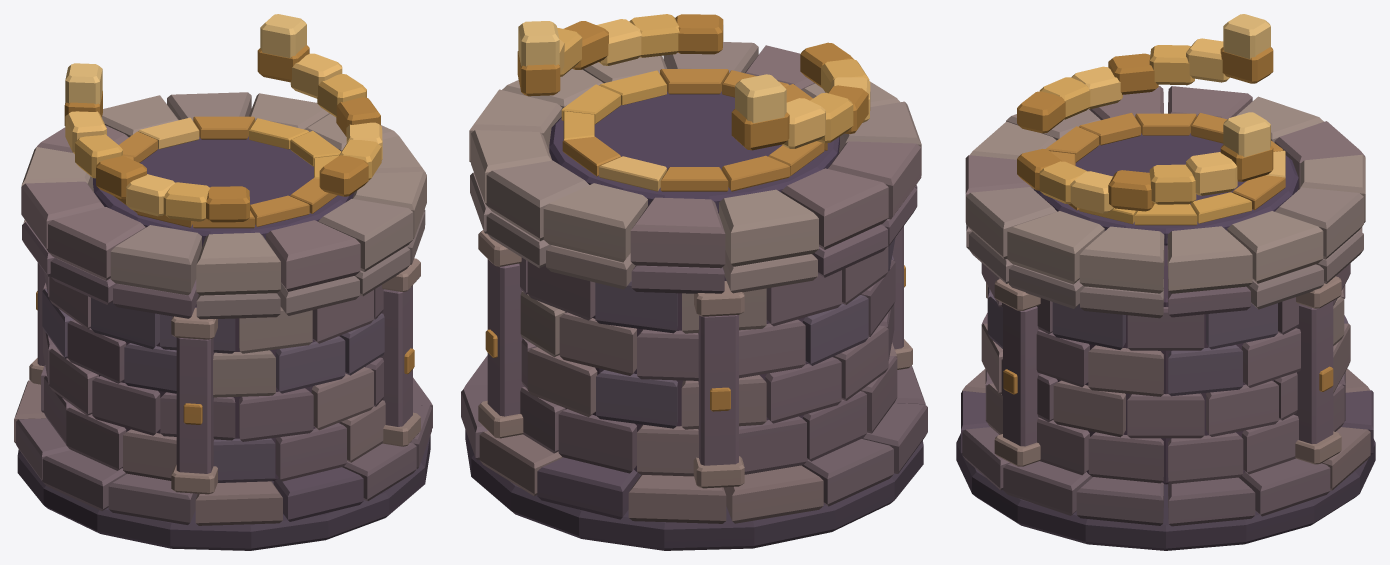
The model's file is citadel-hd.glb.
The picture shows the model from 3 angles, left to right: view 1: azimuth 30°, elevation 25°; view 2: azimuth 150°, elevation 25°; view 3: azimuth 270°, elevation 25°; orthographic projection. The views are drawn at different scales.
Parts seen in each view (by area): view 1: citadel-hd; view 2: citadel-hd; view 3: citadel-hd.
Boxes of the visible parts, left/top/right/bottom form: citadel-hd: left=14, top=14, right=432, bottom=550; citadel-hd: left=461, top=14, right=927, bottom=550; citadel-hd: left=956, top=14, right=1375, bottom=550.
Size of the model in its own units: 70.3 by 72 by 69.6.
